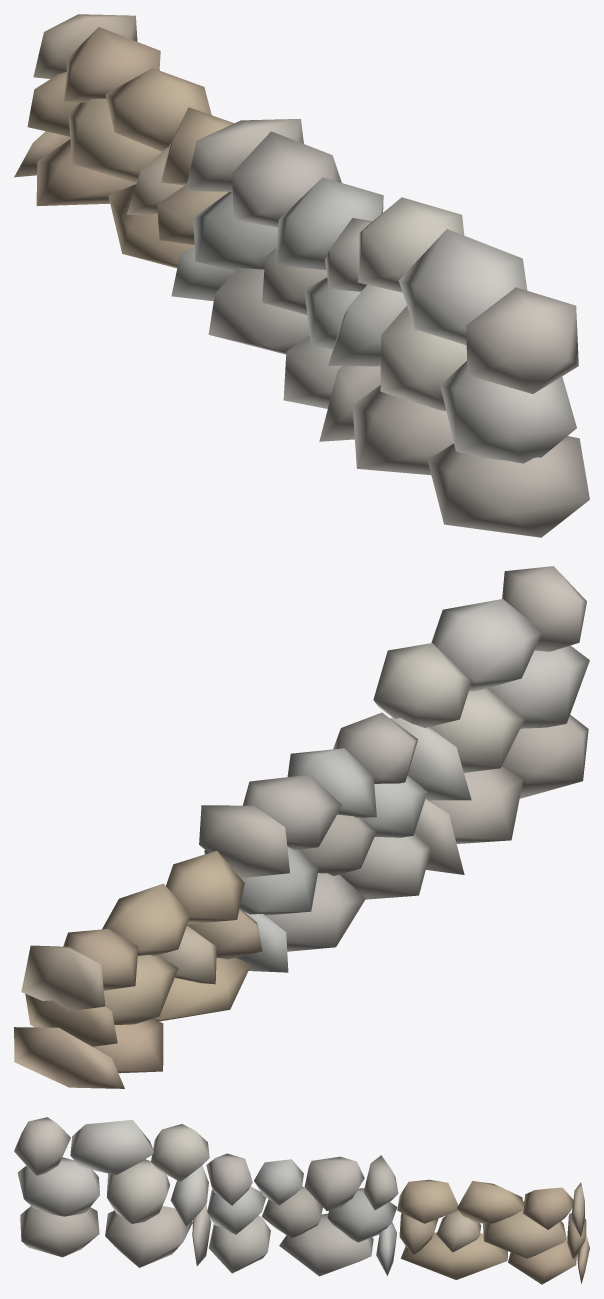
Rendered from farm_-12_-4_near.glb.
3 renders of one model, top to bottom at view 1: azimuth 30°, elevation 25°; view 2: azimuth 150°, elevation 25°; view 3: azimuth 270°, elevation 25°, orthographic. The views are drawn at different scales.
Parts seen in each view (by area): view 1: geometry_0; view 2: geometry_0; view 3: geometry_0.
Boxes of the visible parts, x1,y1,x2,y2 form: geometry_0: (14, 14, 589, 537); geometry_0: (14, 566, 589, 1088); geometry_0: (14, 1117, 589, 1284).
Bounding box in the file's own units: 0.9469 × 1.23 × 4.56.
